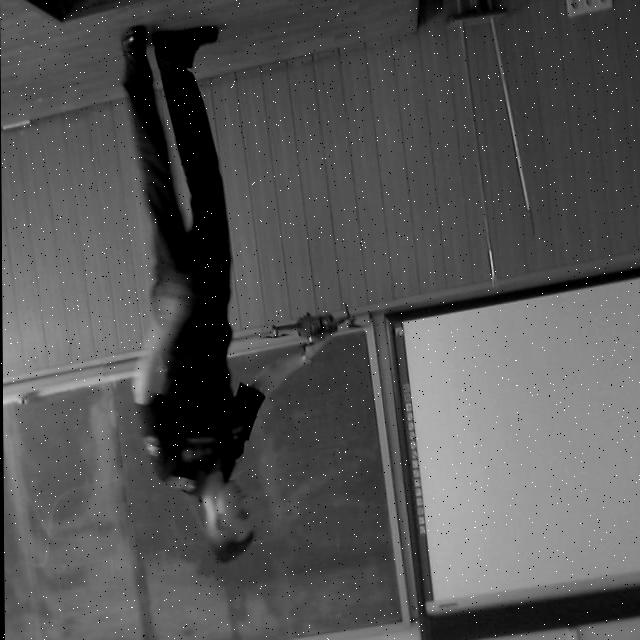drone: (256, 294, 364, 366)
